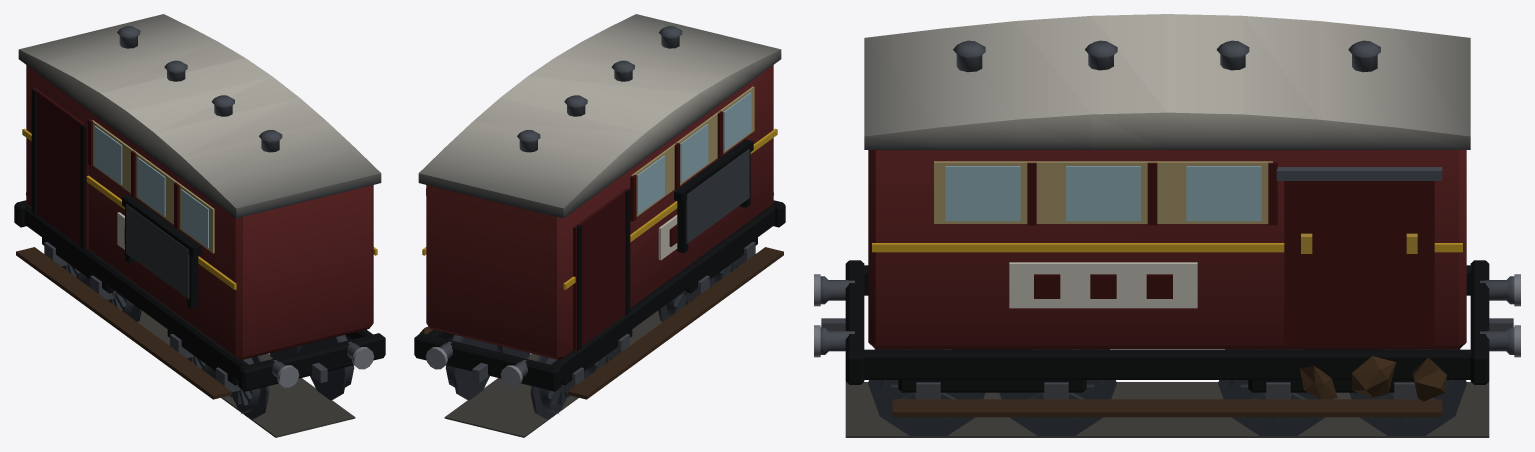
Rendered from mail-coach.glb.
3 renders of one model, left to right at view 1: azimuth 30°, elevation 25°; view 2: azimuth 150°, elevation 25°; view 3: azimuth 270°, elevation 25°, orthographic. The views are drawn at different scales.
Parts seen in each view (by area): view 1: mail_coach; view 2: mail_coach; view 3: mail_coach.
Boxes of the visible parts, x1,y1,x2,y2 form: mail_coach: [14, 14, 385, 437]; mail_coach: [414, 14, 785, 437]; mail_coach: [814, 14, 1520, 437].
Size of the model in its own units: 1.5 by 2.15 by 3.76.
